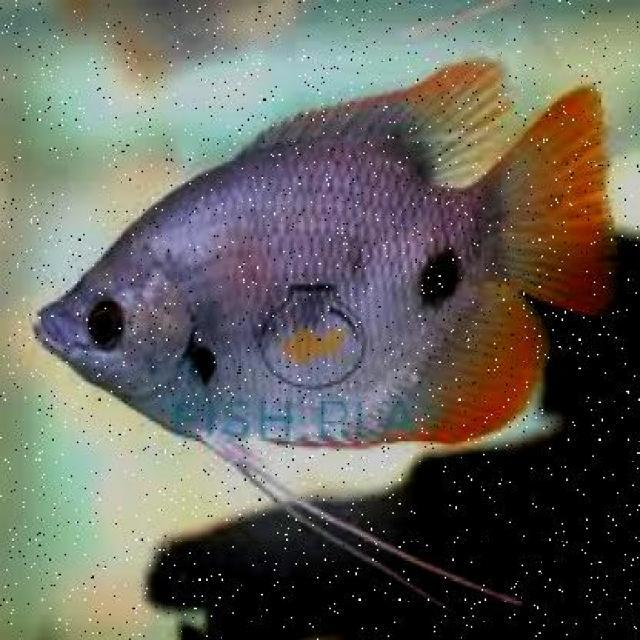gurame: (29, 71, 596, 448)
